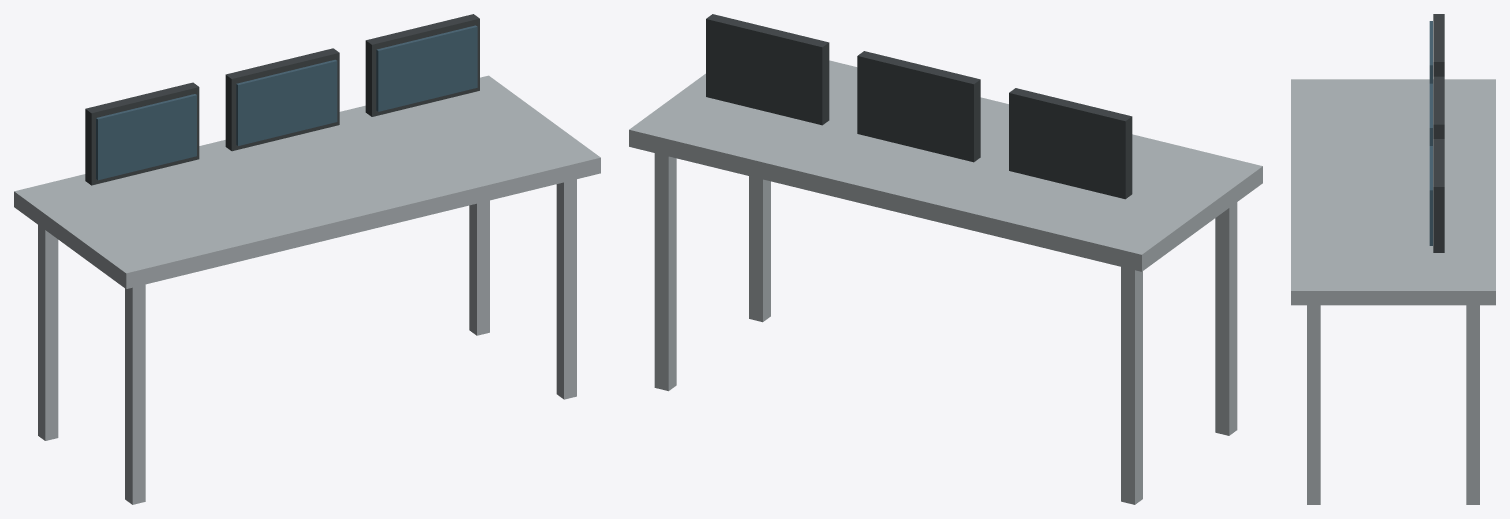
File: endurance-and-gt-paddock-engineer-stand-d1100f92__14867.glb
The picture shows the model from 3 angles, left to right: view 1: azimuth 30°, elevation 25°; view 2: azimuth 150°, elevation 25°; view 3: azimuth 270°, elevation 25°; orthographic projection. The views are drawn at different scales.
Visible parts, largest first — view 1: engineer-stand; view 2: engineer-stand; view 3: engineer-stand.
Part boxes in pixels (bbox=[...]): engineer-stand: bbox=[14, 14, 600, 504]; engineer-stand: bbox=[629, 14, 1262, 504]; engineer-stand: bbox=[1291, 14, 1495, 504].
Bounding box in the file's own units: 2.2 × 1.48 × 0.9.
